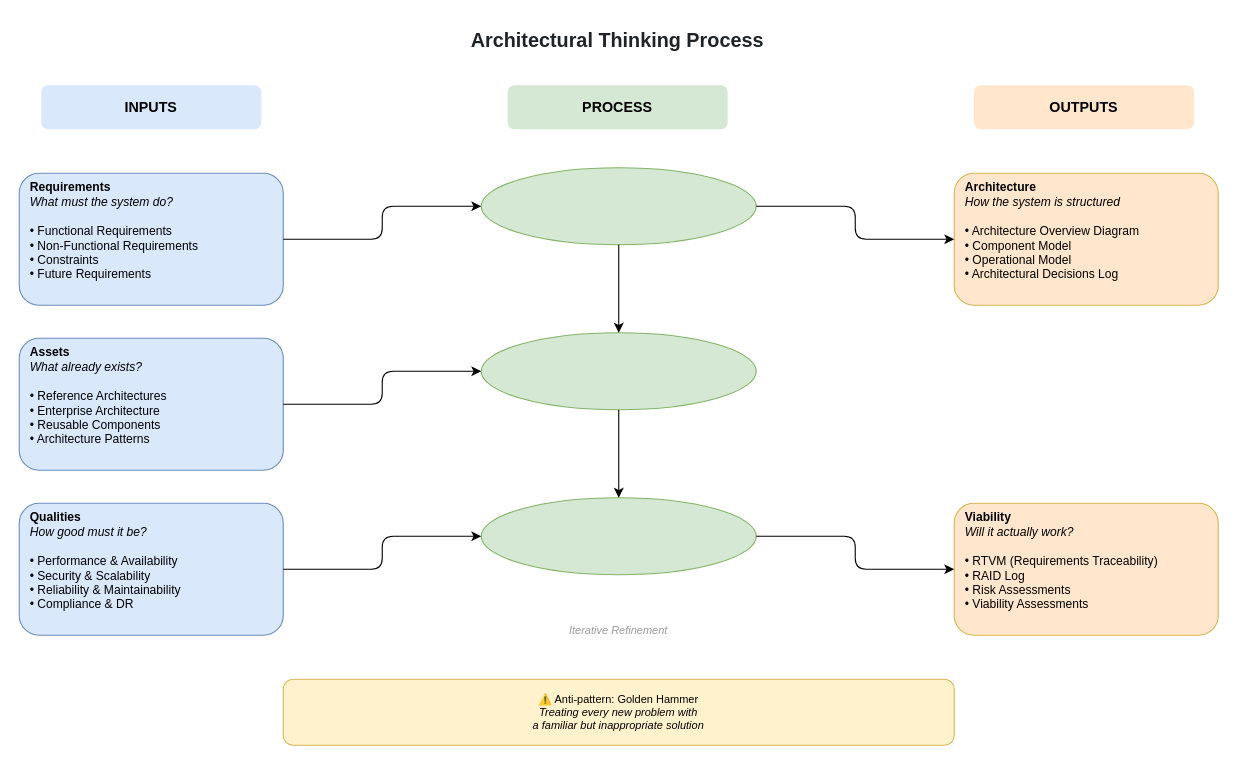
Image size: 1238x765. Some labels were removed from this diagram. The box of each missing label's shape, as (x1, y1, x2, y2) in pixels:
Analyze Understand problem scope: (480, 167, 756, 245)
Decide Make architectural decisions Apply principles: (480, 332, 756, 410)
Design Functional + Operational aspects, AOD: (480, 497, 756, 575)
